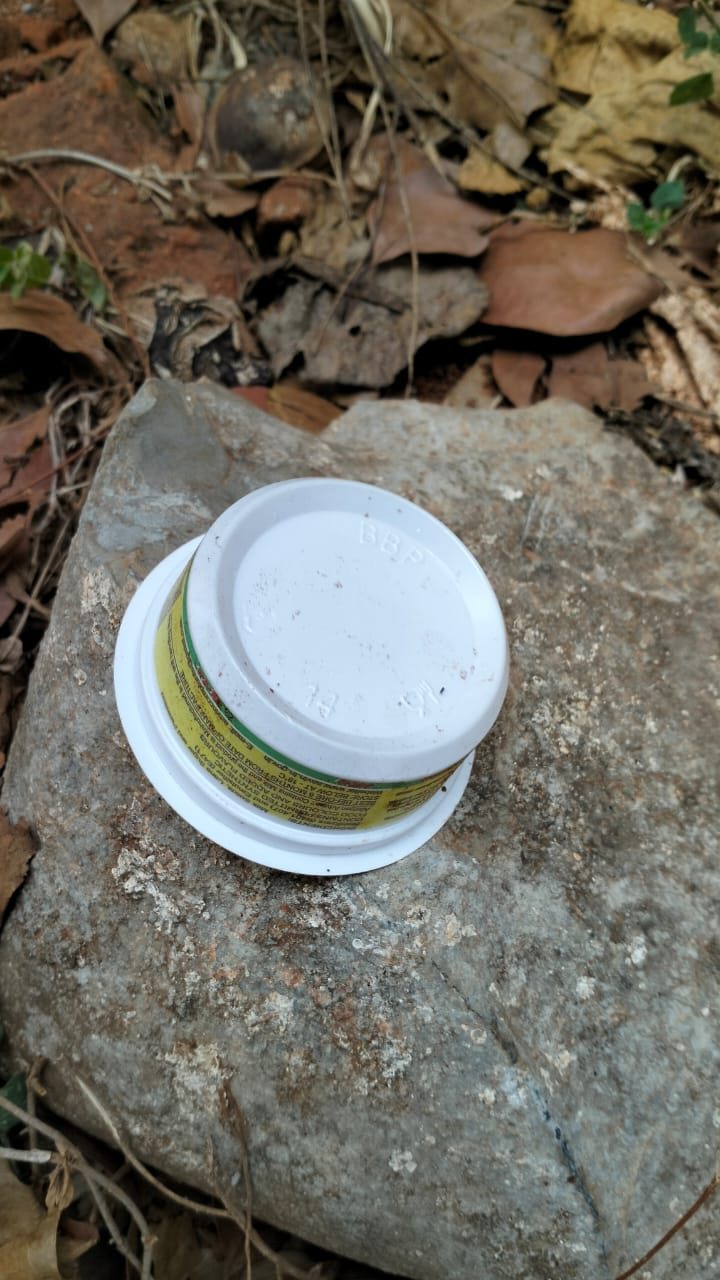pcup: (103, 476, 505, 874)
